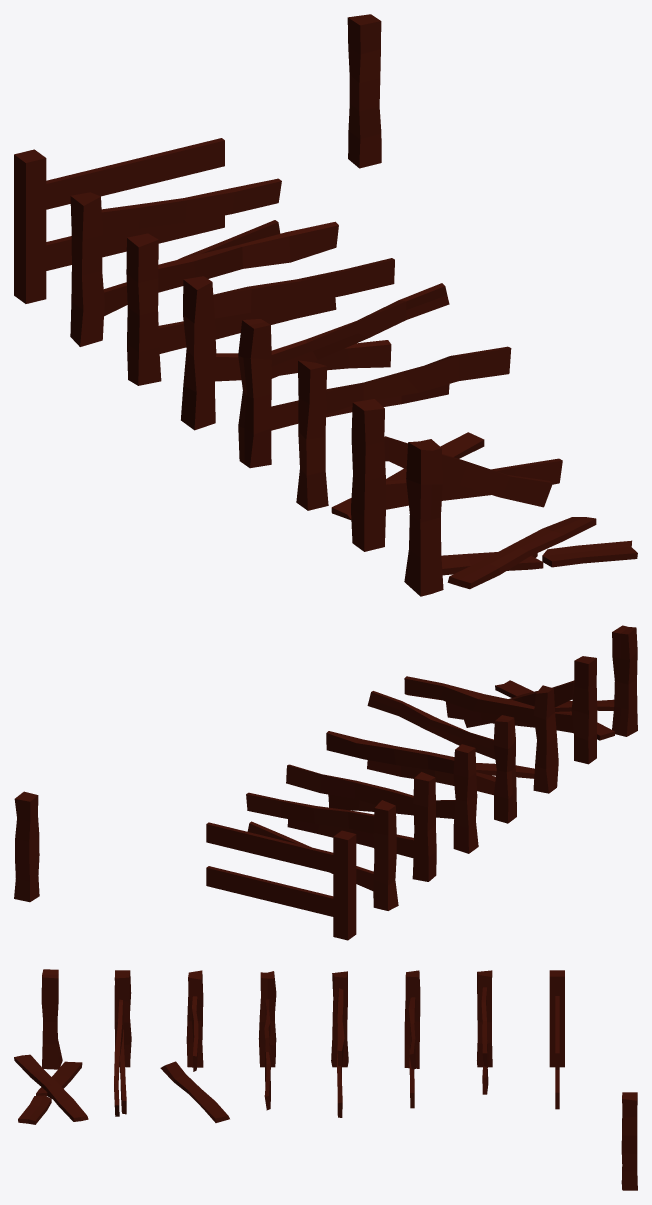
The model's file is Fences.fbx.
3 views of the same model, one above another, from view 1: azimuth 30°, elevation 25°; view 2: azimuth 150°, elevation 25°; view 3: azimuth 270°, elevation 25° (orthographic). The views are drawn at different scales.
Parts seen in each view (by area): view 1: Fence_Start_1, Fence_Start_3, Fence_Start_4, Fence_Start_8, Fence_Start_2, Fence_Start_7, Fence_Start_5, Fence_Start_6, Fence_End; view 2: Fence_Start_1, Fence_Start_3, Fence_Start_4, Fence_Start_5, Fence_Start_2, Fence_Start_6, Fence_Start_7, Fence_Start_8, Fence_End; view 3: Fence_Start_8, Fence_Start_6, Fence_Start_7, Fence_Start_4, Fence_Start_5, Fence_Start_1, Fence_Start_3, Fence_Start_2, Fence_End.
Part boxes in pixels (box(x1,y1,x2,y2)): Fence_Start_1: box(14, 138, 224, 303); Fence_Start_3: box(126, 221, 338, 385); Fence_Start_4: box(181, 258, 394, 430); Fence_Start_8: box(404, 439, 637, 596); Fence_Start_2: box(70, 178, 281, 346); Fence_Start_7: box(351, 399, 562, 551); Fence_Start_5: box(238, 283, 449, 468); Fence_Start_6: box(296, 346, 511, 519); Fence_End: box(347, 14, 381, 168); Fence_Start_1: box(206, 822, 356, 940); Fence_Start_3: box(286, 764, 436, 881); Fence_Start_4: box(326, 731, 478, 853); Fence_Start_5: box(367, 691, 516, 823); Fence_Start_2: box(246, 792, 398, 910); Fence_Start_6: box(404, 676, 558, 793); Fence_Start_7: box(446, 656, 597, 764); Fence_Start_8: box(495, 625, 637, 740); Fence_End: box(14, 791, 39, 902); Fence_Start_8: box(14, 969, 88, 1124); Fence_Start_6: box(160, 970, 229, 1122); Fence_Start_7: box(114, 970, 131, 1116); Fence_Start_4: box(331, 971, 348, 1117); Fence_Start_5: box(258, 971, 276, 1110); Fence_Start_1: box(549, 970, 564, 1109); Fence_Start_3: box(404, 970, 420, 1108); Fence_Start_2: box(477, 970, 492, 1094); Fence_End: box(621, 1092, 637, 1190).
Bounding box in the file's own units: 425 × 143 × 861.
